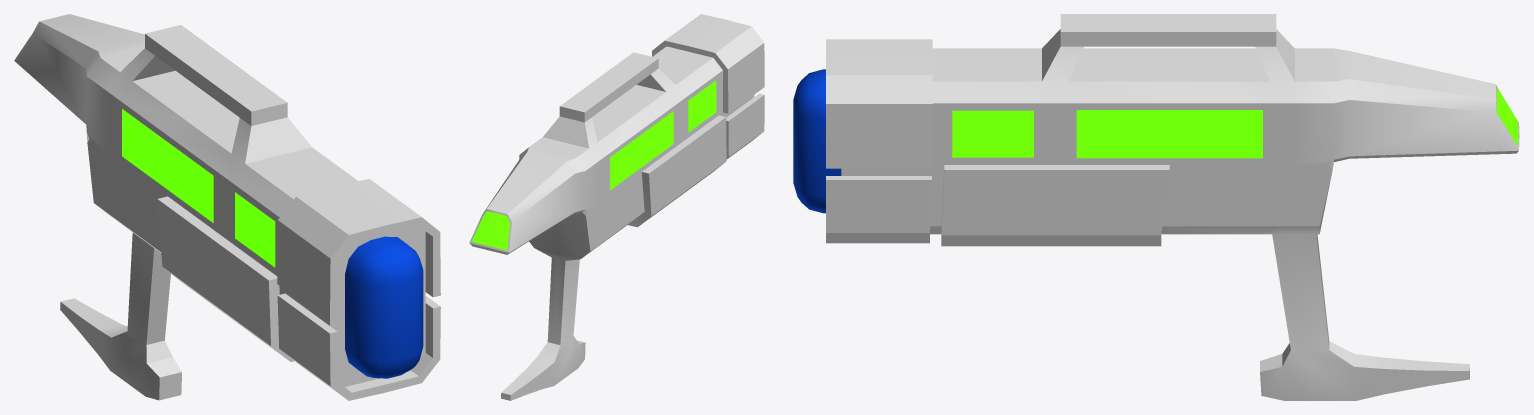
The model's file is Bazuka.fbx.
3 renders of one model, left to right at view 1: azimuth 30°, elevation 25°; view 2: azimuth 150°, elevation 25°; view 3: azimuth 270°, elevation 25°, orthographic. The views are drawn at different scales.
Visible parts, largest first — view 1: Cube, Laser canon; view 2: Cube; view 3: Cube, Laser canon.
Part boxes in pixels (box(x1,y1,x2,y2)): Cube: box(14, 14, 440, 400); Laser canon: box(345, 236, 423, 378); Cube: box(469, 14, 764, 400); Cube: box(826, 14, 1519, 400); Laser canon: box(793, 69, 841, 213).
Bounding box in the file's own units: 0.4495 × 1.36 × 2.4.
